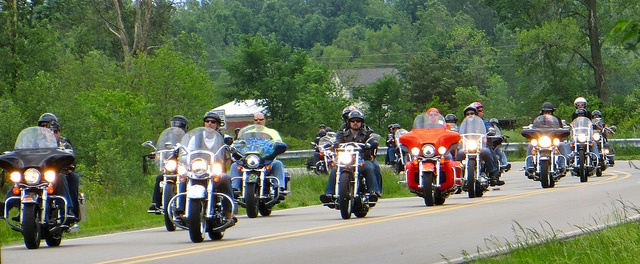non-vehicle: (0, 125, 84, 248), (165, 125, 237, 242), (399, 111, 462, 205), (229, 123, 290, 217), (321, 132, 382, 218), (140, 125, 185, 230), (521, 114, 569, 186), (457, 114, 496, 197), (560, 115, 600, 181), (592, 117, 617, 175), (303, 140, 331, 175), (386, 128, 408, 171), (493, 124, 511, 172)
